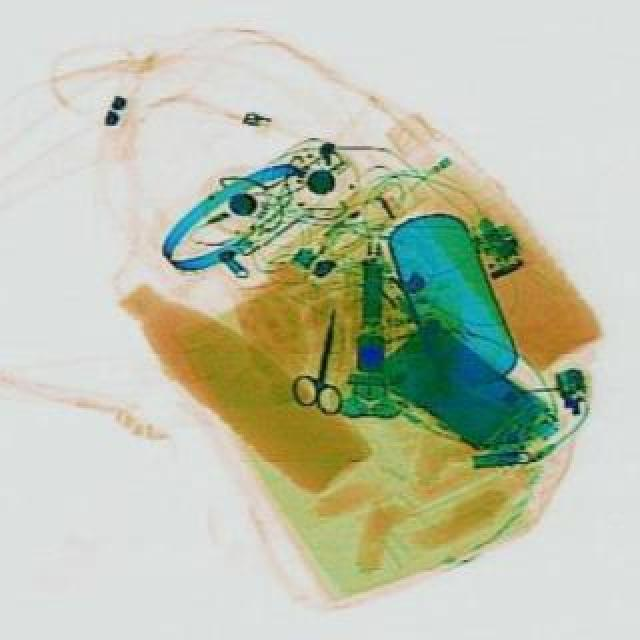pliers: (286, 304, 356, 414)
